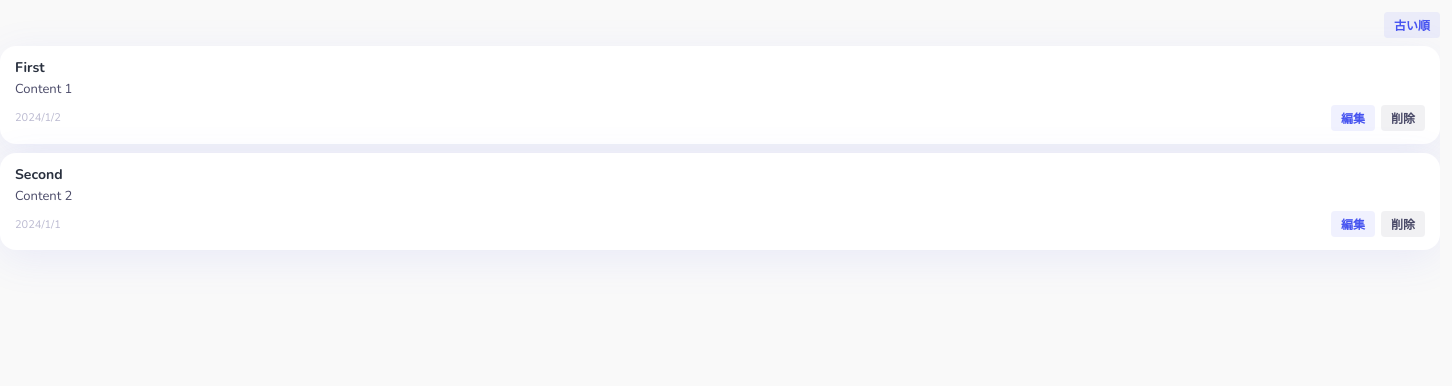
Test case: DailyNewList › switches to edit mode with prefilled values when edit button is clicked
Click the button with class "edit-btn" in the row of "2024/1/2" at (1353,118), box 1331,105 -> 1375,131
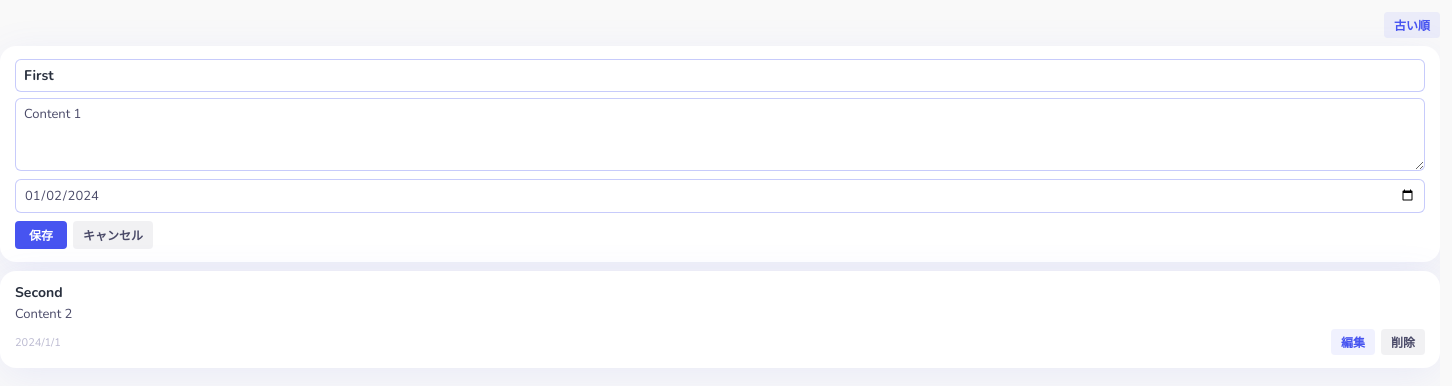
Expected: the field with class "edit-input" holds "First", 15,59 -> 1425,92
Expected: the text box with class "edit-textarea" holds "Content 1", 15,98 -> 1425,170
Expected: the date field with class "edit-date-input" holds "2024-01-02", 15,178 -> 1425,212
